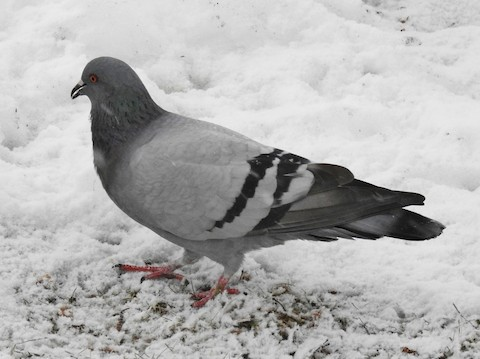pigeon: (67, 52, 447, 308)
